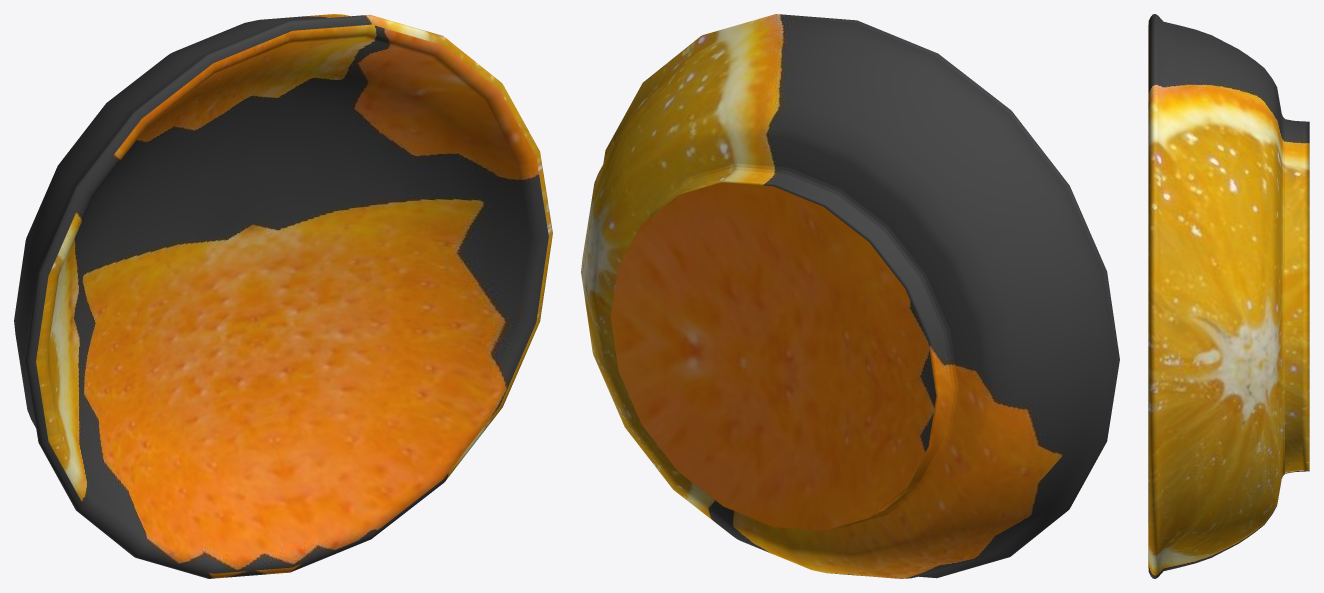
The picture shows the model from 3 angles, left to right: view 1: azimuth 30°, elevation 25°; view 2: azimuth 150°, elevation 25°; view 3: azimuth 270°, elevation 25°; orthographic projection. The views are drawn at different scales.
Size of the model in its own units: 1 by 1 by 0.2831.
